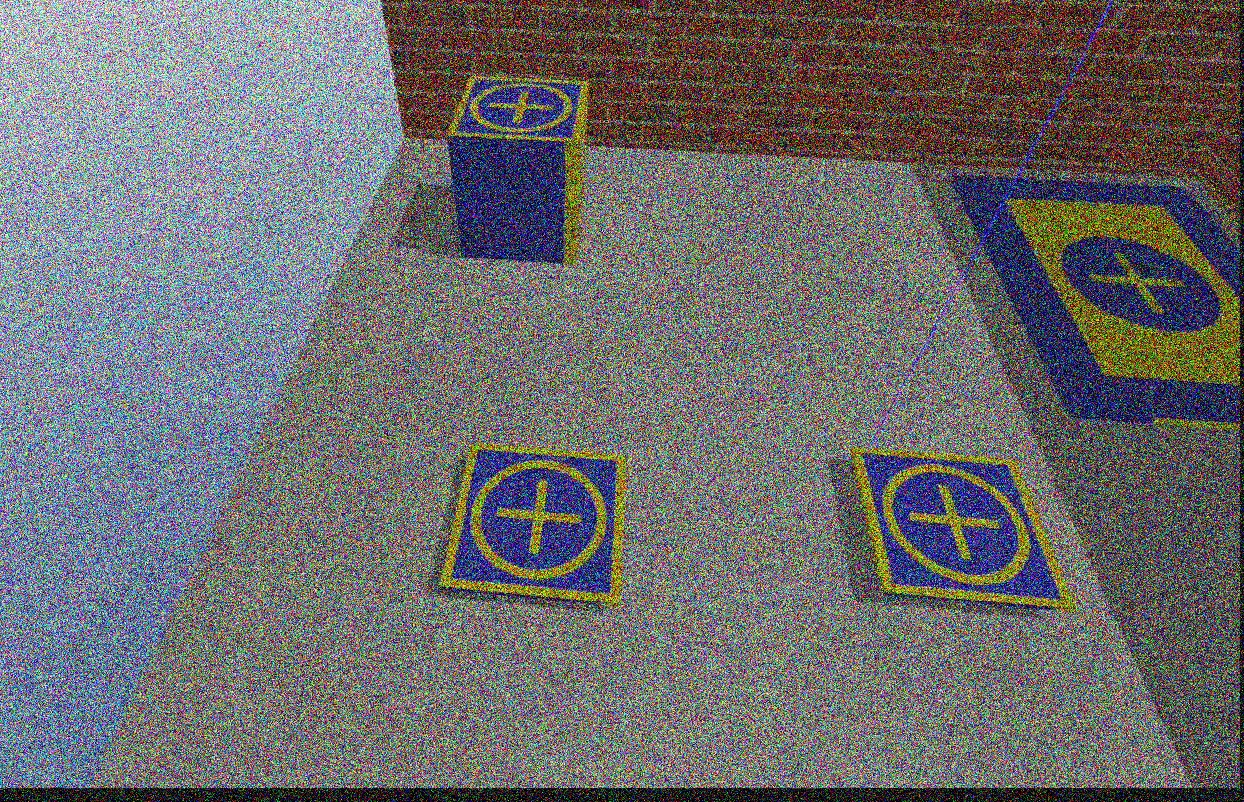large_base: (950, 170, 1244, 429)
small_base: (852, 441, 1078, 617), (437, 445, 627, 604), (448, 73, 593, 153)
